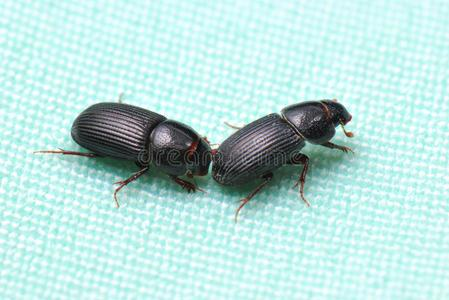Curculionidae: (33, 90, 214, 209), (210, 98, 357, 223)
